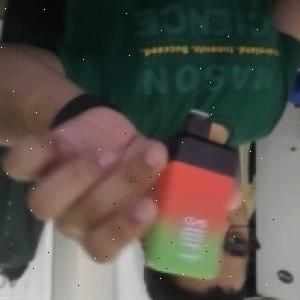Swift-E-Ciggirate: (140, 105, 247, 284)
